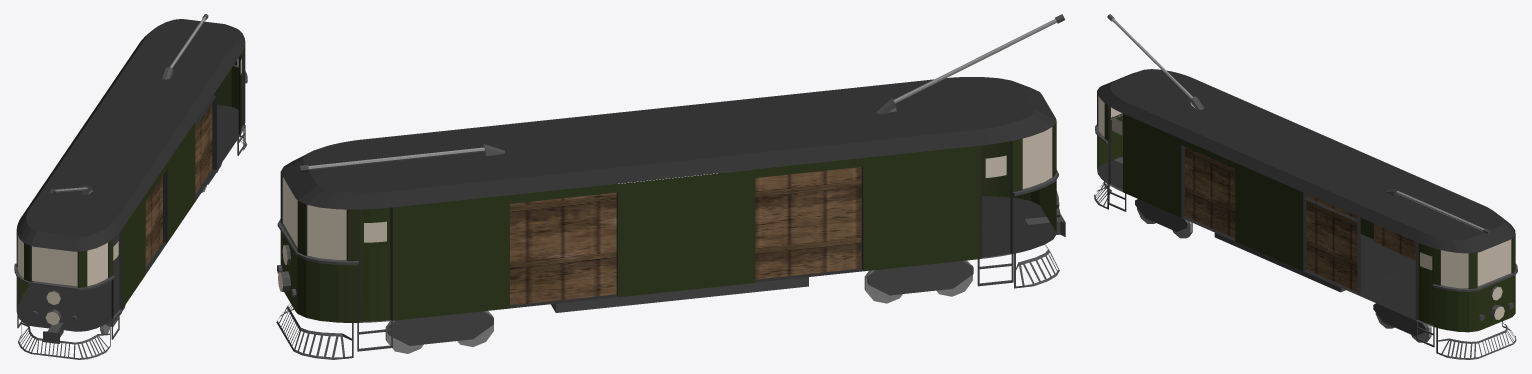
File: TractionEngine-v1.glb
3 views of the same model, side by side, from view 1: azimuth 30°, elevation 25°; view 2: azimuth 150°, elevation 25°; view 3: azimuth 270°, elevation 25° (orthographic). The views are drawn at different scales.
Parts seen in each view (by area): view 1: Box Motor.001; view 2: Box Motor.001; view 3: Box Motor.001.
Part boxes in pixels (x1,y1,x2,y2): Box Motor.001: [14, 14, 247, 359]; Box Motor.001: [276, 14, 1065, 359]; Box Motor.001: [1094, 14, 1517, 359].
Size of the model in its own units: 10.96 by 4.83 by 10.66.
2 materials, 2 textured.
